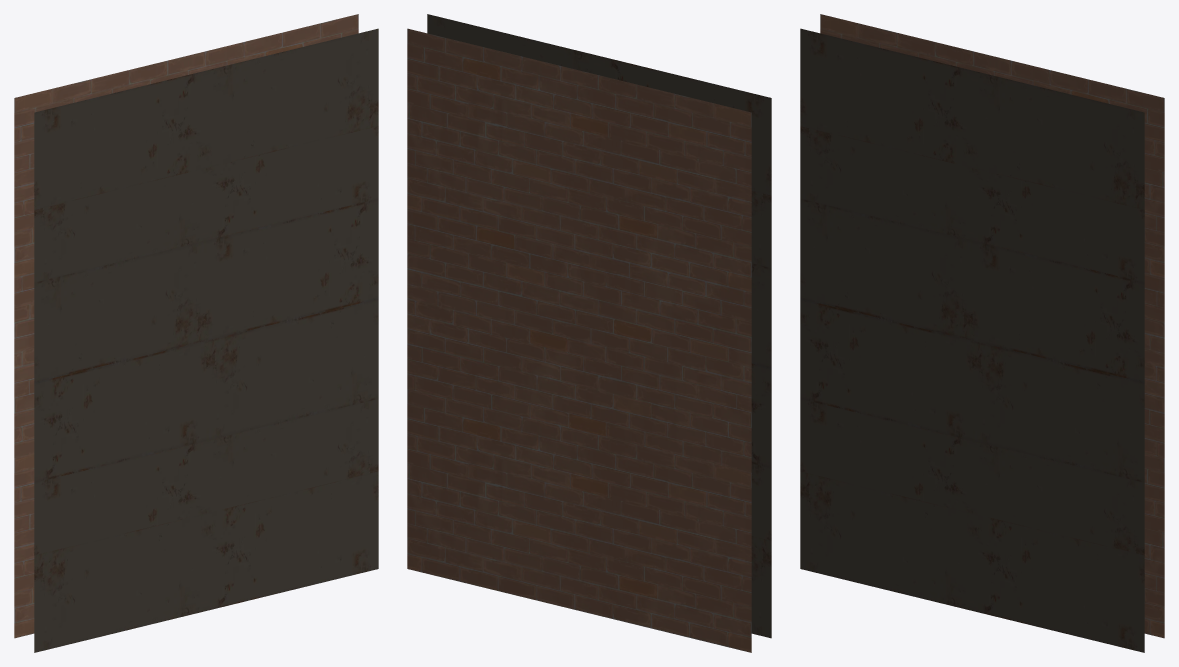
The model's file is Metal_Plain_3.glb.
3 renders of one model, left to right at view 1: azimuth 30°, elevation 25°; view 2: azimuth 150°, elevation 25°; view 3: azimuth 330°, elevation 25°, orthographic.
Visible parts, largest first — view 1: Metal_Plain_3; view 2: Metal_Plain_3; view 3: Metal_Plain_3.
Boxes of the visible parts, x1=… form: Metal_Plain_3: x1=14, y1=14, x2=378, y2=652; Metal_Plain_3: x1=407, y1=14, x2=771, y2=652; Metal_Plain_3: x1=800, y1=14, x2=1164, y2=652.
Size of the model in its own units: 2 by 3 by 0.2.
2 materials, 2 textured.
